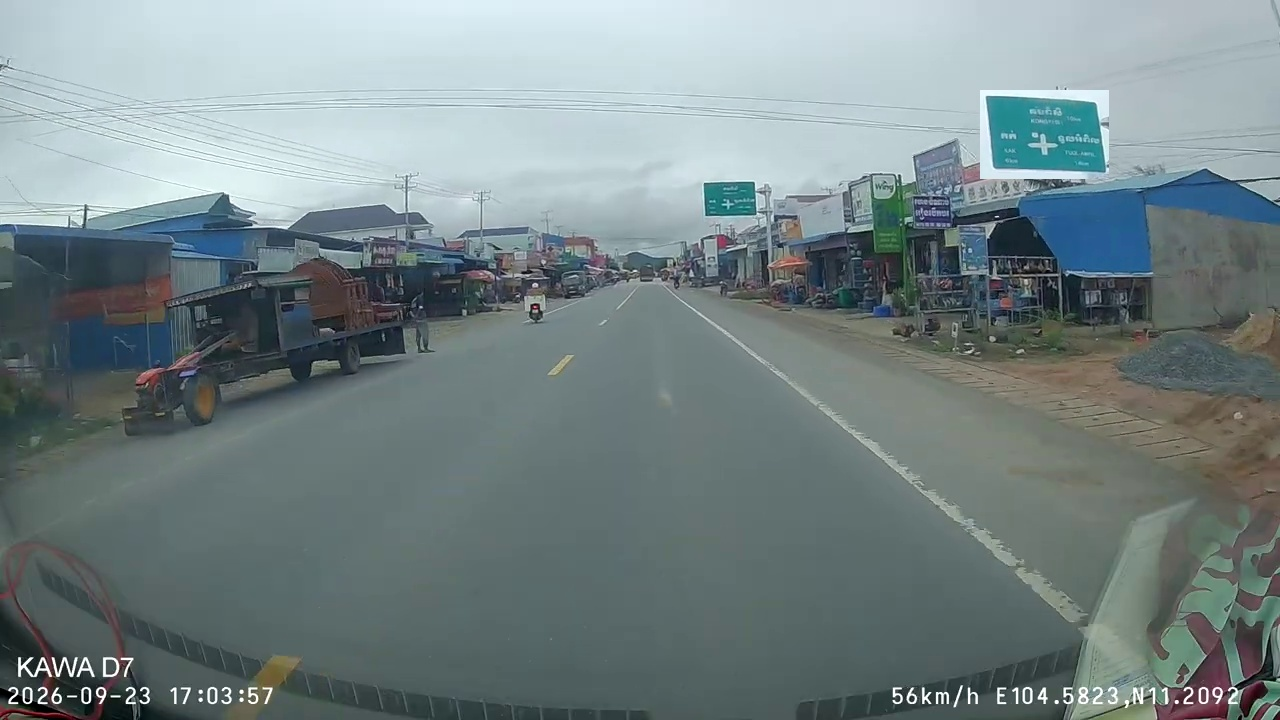direction_sign: (980, 90, 1109, 179)
